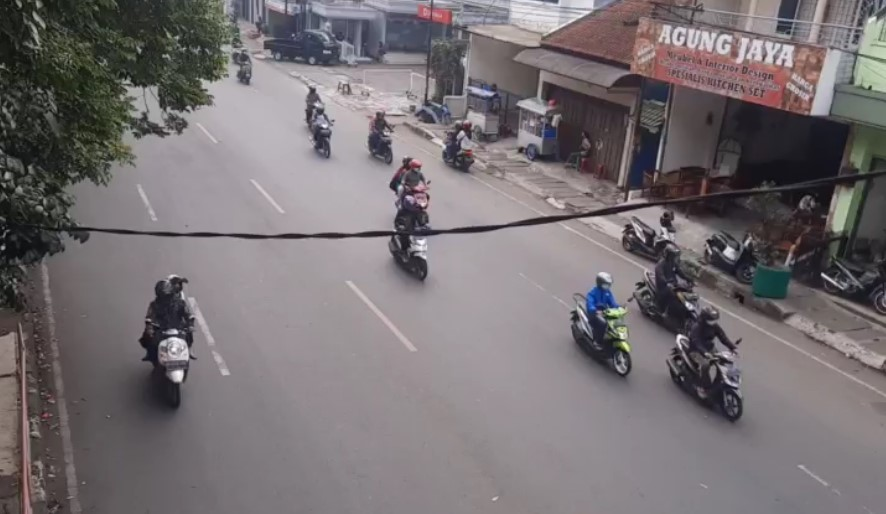motor: (134, 269, 206, 411), (673, 315, 750, 420), (575, 272, 634, 383), (632, 241, 699, 333), (387, 199, 431, 281), (386, 158, 436, 219), (362, 105, 398, 162), (308, 103, 338, 157)
